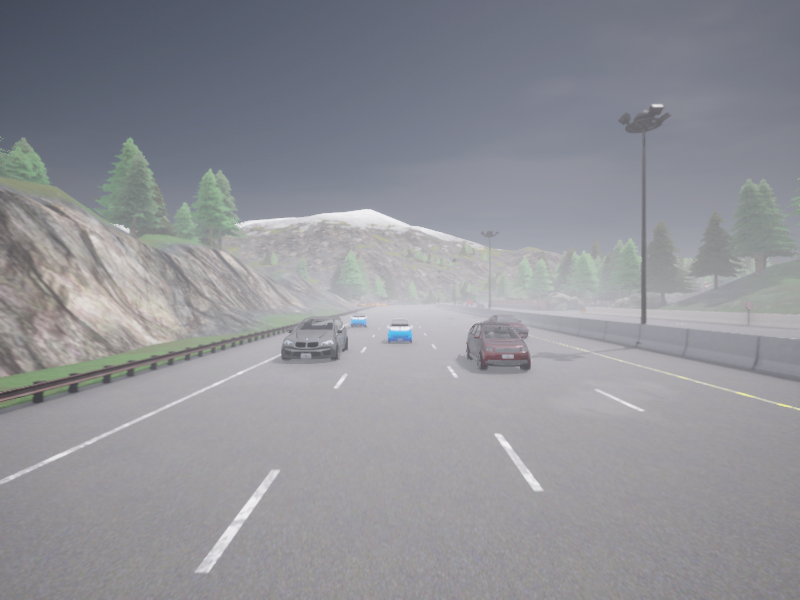vehicle: (465, 323, 530, 370), (281, 316, 348, 360), (485, 314, 529, 338), (387, 318, 412, 343), (350, 312, 367, 327), (466, 300, 472, 305), (476, 303, 483, 307), (474, 301, 479, 304), (458, 302, 462, 305), (461, 302, 465, 304)
